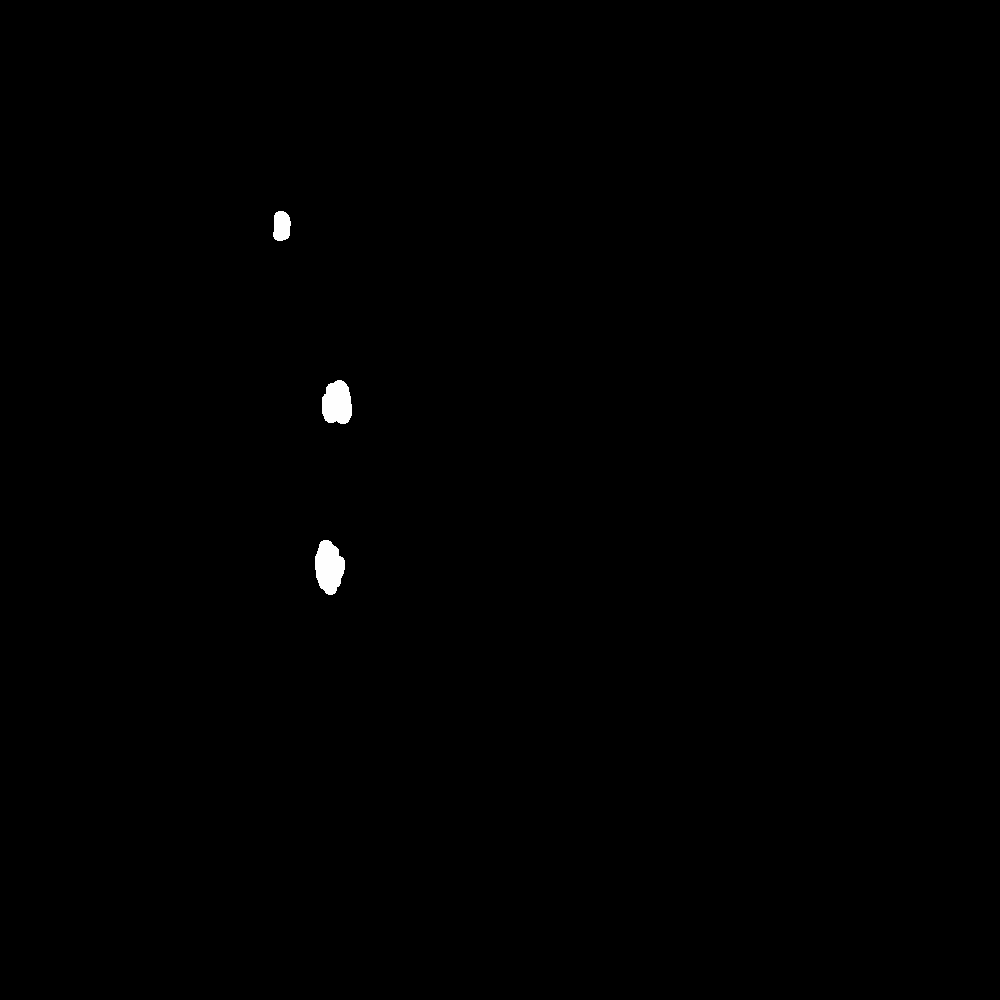illegal: (322, 381, 350, 598), (323, 235, 347, 388), (265, 216, 341, 239)
